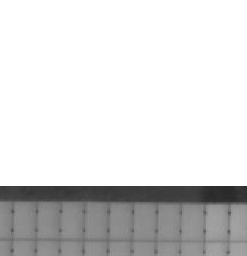solar: (10, 199, 39, 240), (34, 200, 63, 241), (57, 199, 86, 240), (81, 199, 110, 240), (106, 199, 135, 240), (129, 200, 158, 241), (154, 201, 183, 242), (177, 202, 206, 243), (202, 202, 231, 243)
